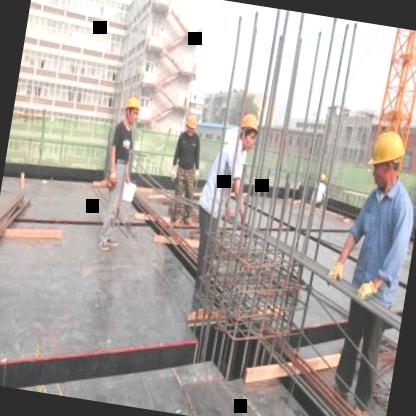helmet: (362, 123, 412, 196), (228, 105, 263, 155), (116, 92, 145, 131), (178, 109, 200, 143), (316, 170, 328, 186)
